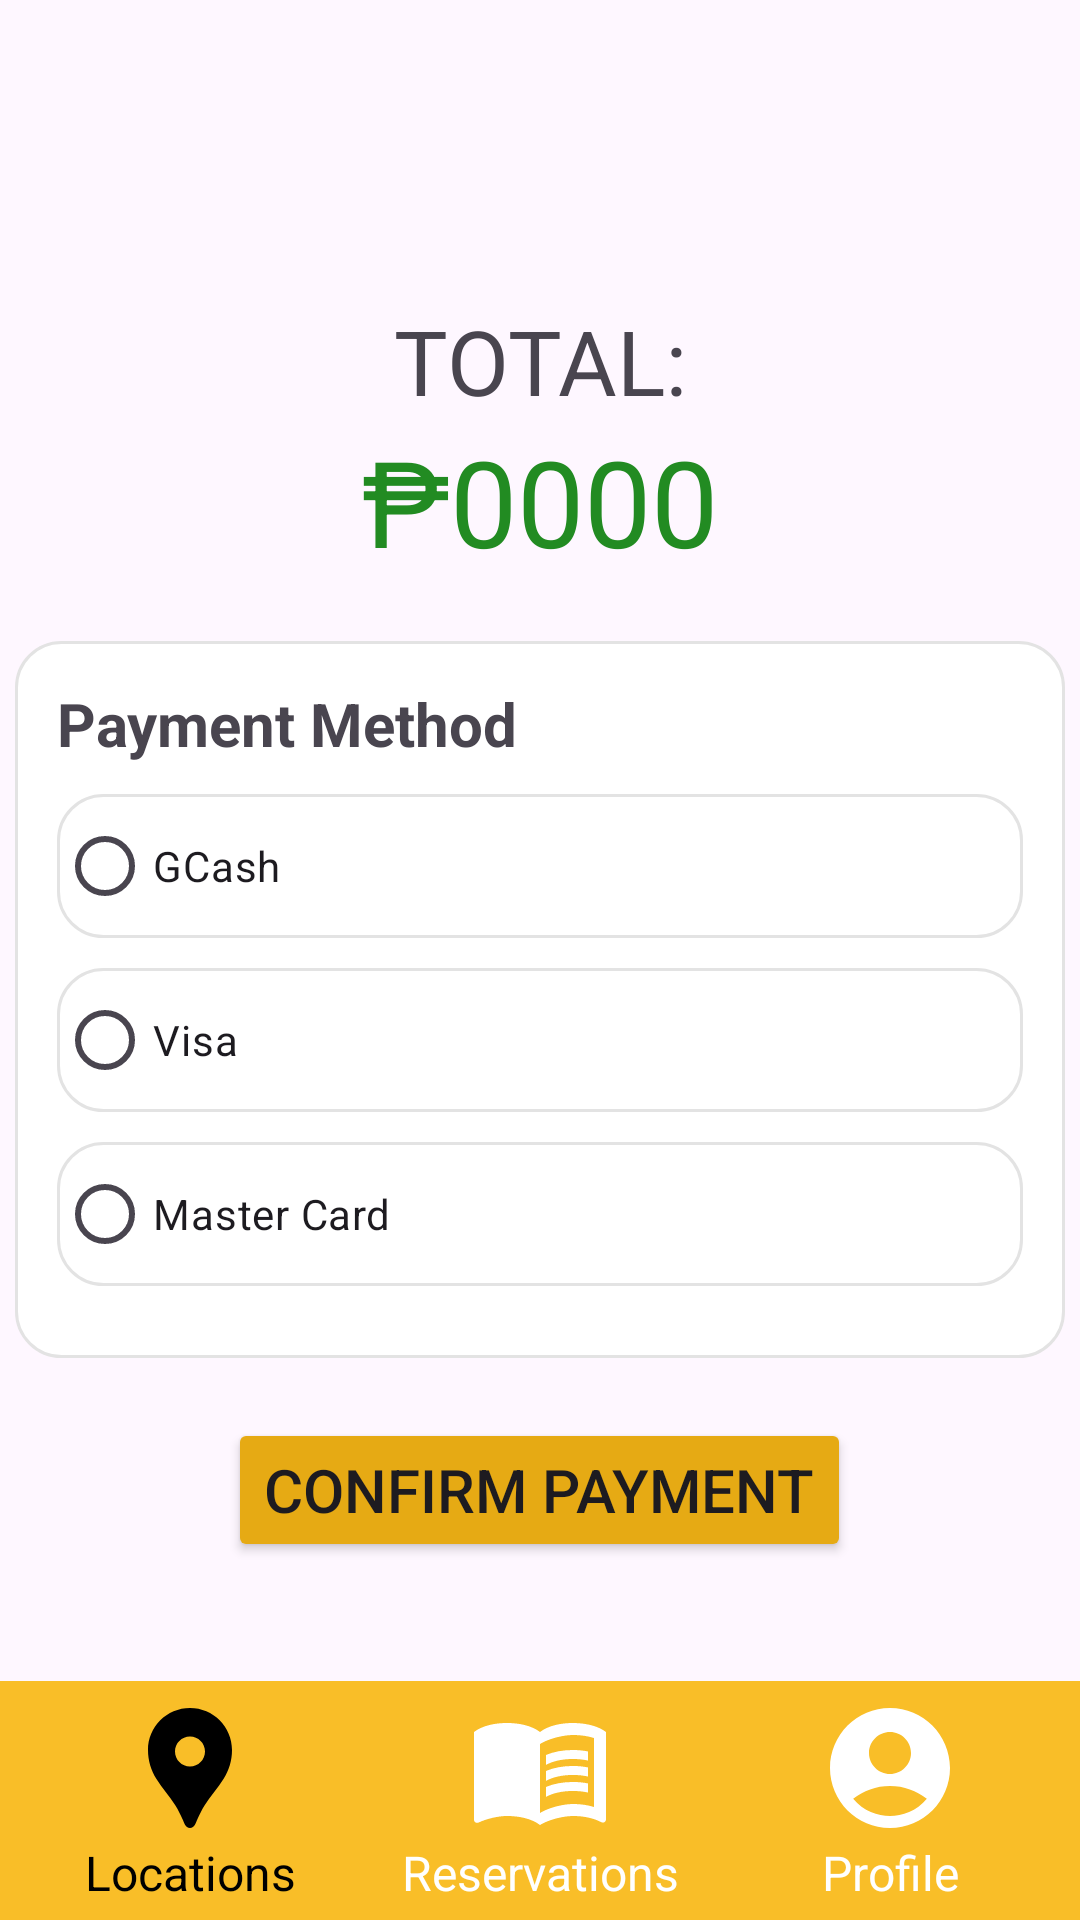

Where to tap for icons on this 1080px×1920px app screen, as point (x, y):
account circle: point (890, 1768)
book: point (540, 1774)
location pin: point (190, 1768)
